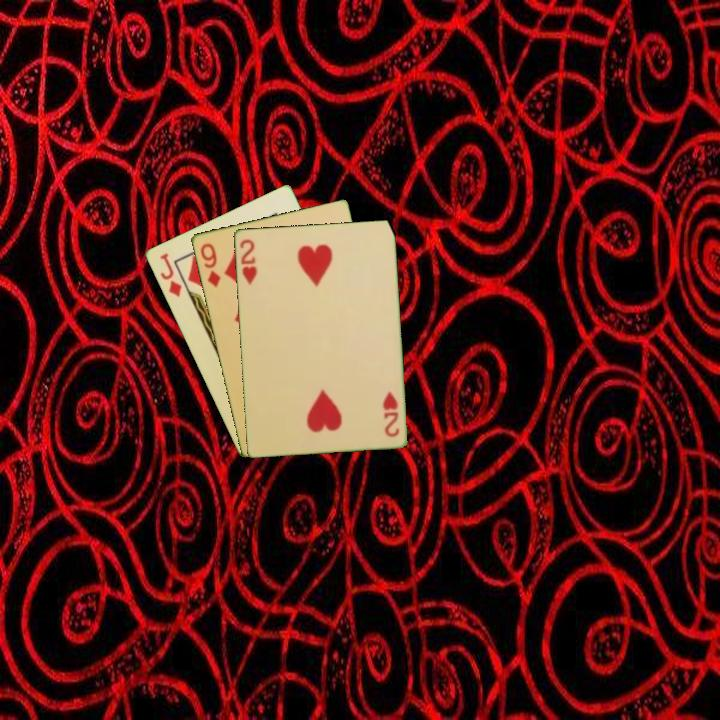2h: (379, 387, 402, 440), (236, 235, 259, 287)
9d: (196, 239, 223, 290)
Jd: (156, 249, 184, 300)
